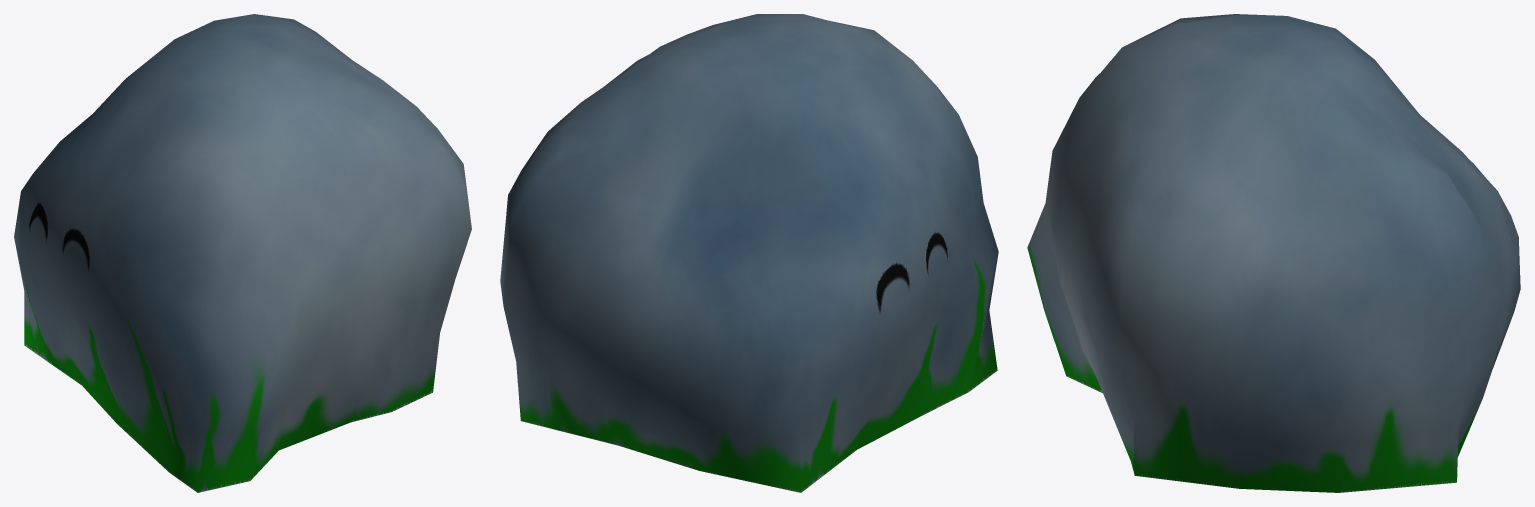
Rendered from rock.fbx.
3 renders of one model, left to right at view 1: azimuth 30°, elevation 25°; view 2: azimuth 150°, elevation 25°; view 3: azimuth 270°, elevation 25°, orthographic. The views are drawn at different scales.
Parts seen in each view (by area): view 1: rock_candy:rock; view 2: rock_candy:rock; view 3: rock_candy:rock.
Boxes of the visible parts, <box> form: rock_candy:rock: <box>14,14,471,492</box>; rock_candy:rock: <box>500,14,998,492</box>; rock_candy:rock: <box>1027,14,1520,492</box>.
Bounding box in the file's own units: 5.35 × 4.93 × 5.63.
Materials: 1 (1 with a texture image).
